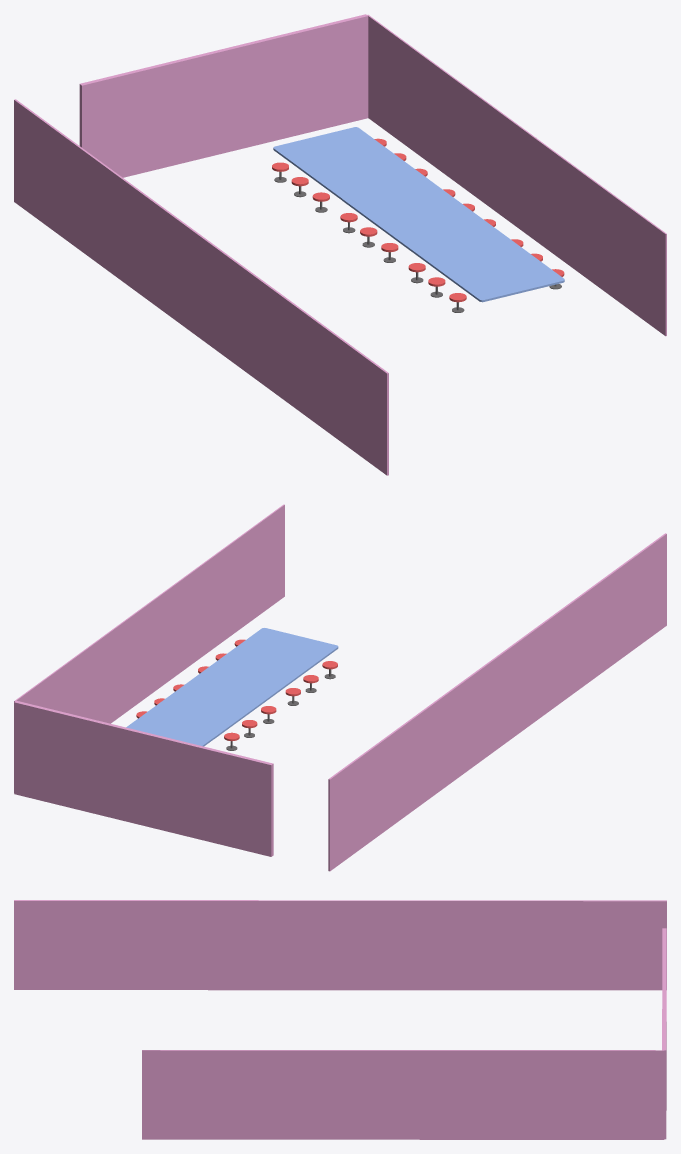
Rendered from Dining_area.dae.
The picture shows the model from 3 angles, top to bottom: view 1: azimuth 30°, elevation 25°; view 2: azimuth 150°, elevation 25°; view 3: azimuth 270°, elevation 25°; orthographic projection. The views are drawn at different scales.
Visible parts, largest first — view 1: Cube.007, Cube.004, Cube.008, table2; view 2: Cube.007, Cube.008, Cube.004, table2; view 3: Cube.007, Cube.004, Cube.008.
Boxes of the visible parts, <box> form: Cube.007: <box>14,99,388,475</box>; Cube.004: <box>367,14,666,336</box>; Cube.008: <box>79,14,368,177</box>; table2: <box>272,127,564,312</box>; Cube.007: <box>328,533,666,871</box>; Cube.008: <box>14,700,273,856</box>; Cube.004: <box>14,504,284,792</box>; table2: <box>126,628,338,750</box>; Cube.007: <box>14,900,666,990</box>; Cube.004: <box>142,1050,664,1139</box>; Cube.008: <box>662,928,666,1139</box>.
Size of the model in its own units: 11.25 by 20.6 by 3.25.
